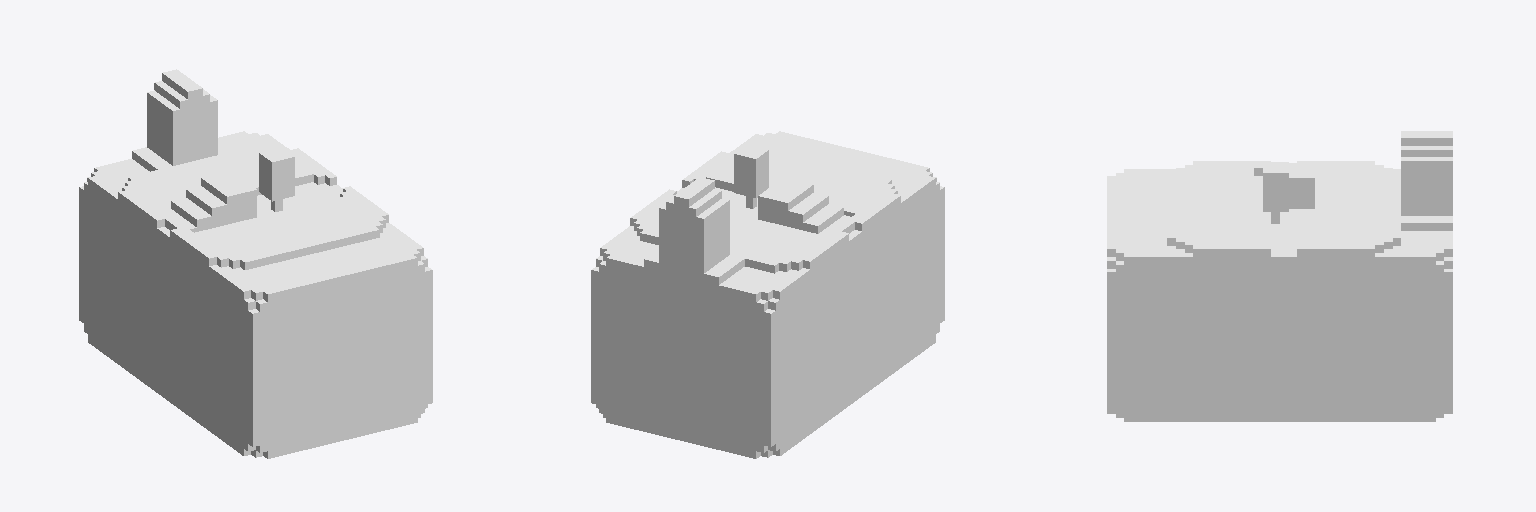
The model's file is taxLvlIcon7.obj.
The picture shows the model from 3 angles: view 1: azimuth 30°, elevation 25°; view 2: azimuth 150°, elevation 25°; view 3: azimuth 270°, elevation 25°; orthographic projection.
Visible parts, largest first — view 1: object 1; view 2: object 1; view 3: object 1.
Boxes of the visible parts, <box> form: object 1: <box>79,69,432,458</box>; object 1: <box>591,131,944,458</box>; object 1: <box>1107,131,1452,421</box>.
Size of the model in its own units: 2.4 by 3.1 by 4.